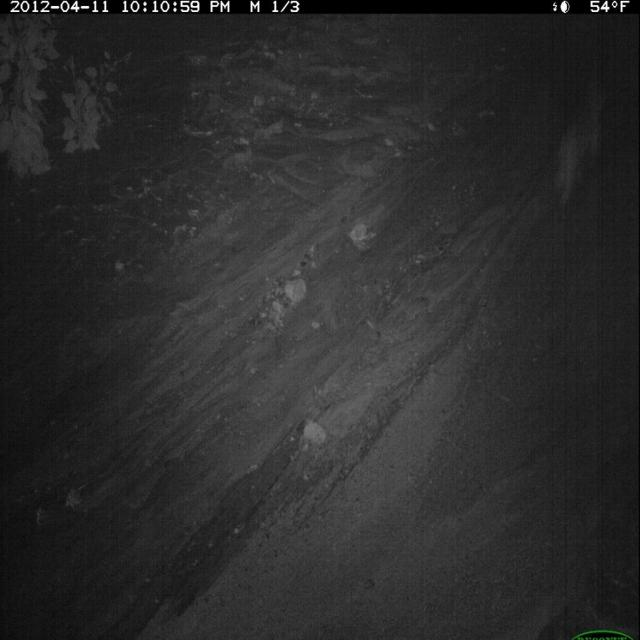bobcat: (545, 70, 615, 231)
